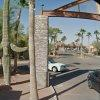Palm tree: (71, 24, 99, 53)
